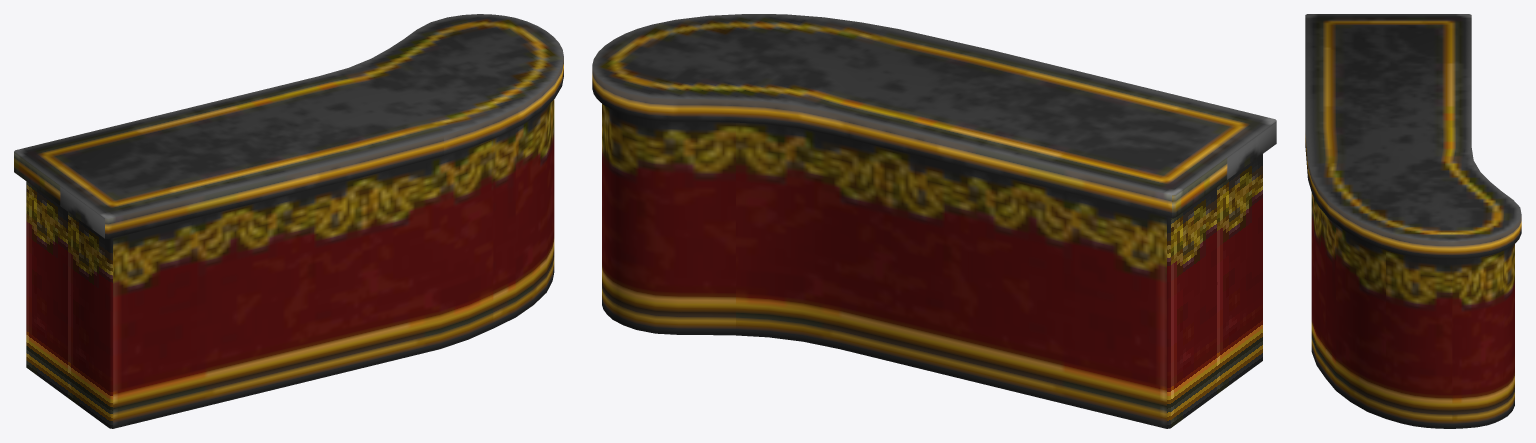
File: int_gor_c_tableM.dae
The picture shows the model from 3 angles, left to right: view 1: azimuth 30°, elevation 25°; view 2: azimuth 150°, elevation 25°; view 3: azimuth 270°, elevation 25°; orthographic projection. The views are drawn at different scales.
Parts seen in each view (by area): view 1: vsn_mesh_0_, vsn_mesh_1_, vsn_mesh_2_; view 2: vsn_mesh_0_, vsn_mesh_1_, vsn_mesh_2_; view 3: vsn_mesh_1_, vsn_mesh_0_.
Part boxes in pixels (x1,y1,x2,y2): vsn_mesh_0_: (113,99,554,428); vsn_mesh_1_: (14,14,563,238); vsn_mesh_2_: (26,181,112,428); vsn_mesh_0_: (602,104,1166,428); vsn_mesh_1_: (592,14,1276,217); vsn_mesh_2_: (1167,154,1262,428); vsn_mesh_1_: (1305,14,1521,259); vsn_mesh_0_: (1311,193,1514,428).
Size of the model in its own units: 61.1 by 24 by 24.6.
Materials: 3 (3 with a texture image).
